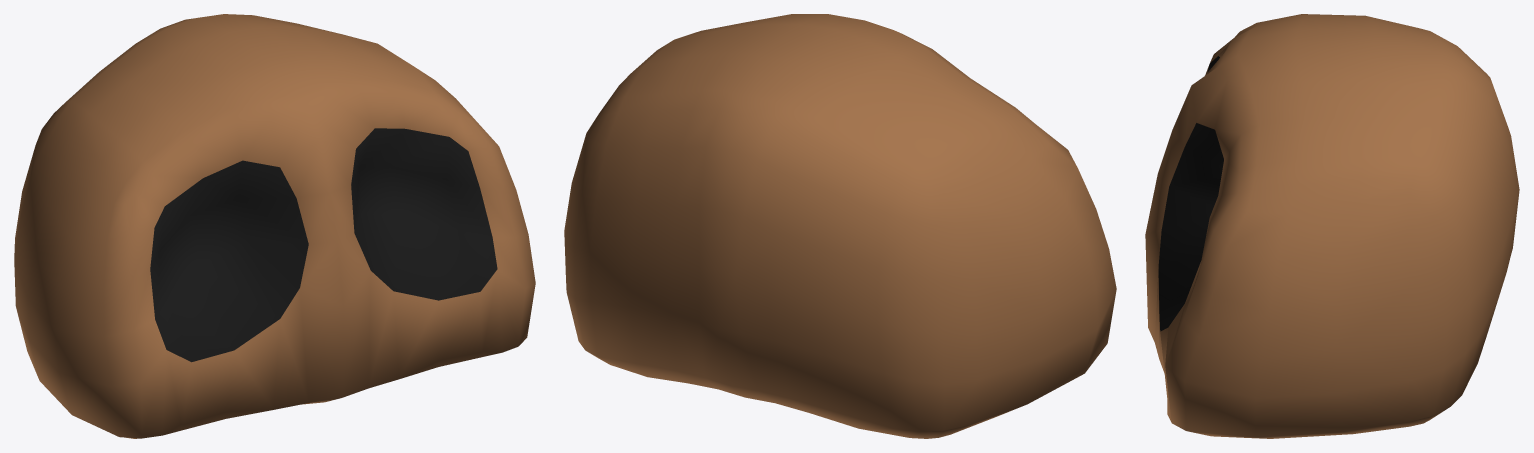
File: Smelly.fbx
The picture shows the model from 3 angles, left to right: view 1: azimuth 30°, elevation 25°; view 2: azimuth 150°, elevation 25°; view 3: azimuth 270°, elevation 25°; orthographic projection. The views are drawn at different scales.
Parts seen in each view (by area): view 1: Smelly - juantmessina (PercyCreeper); view 2: Smelly - juantmessina (PercyCreeper); view 3: Smelly - juantmessina (PercyCreeper).
Part boxes in pixels (<box>): Smelly - juantmessina (PercyCreeper): <box>14,14,535,438</box>; Smelly - juantmessina (PercyCreeper): <box>564,14,1116,438</box>; Smelly - juantmessina (PercyCreeper): <box>1145,14,1519,438</box>.
Bounding box in the file's own units: 28.94 × 18.11 × 20.19.
